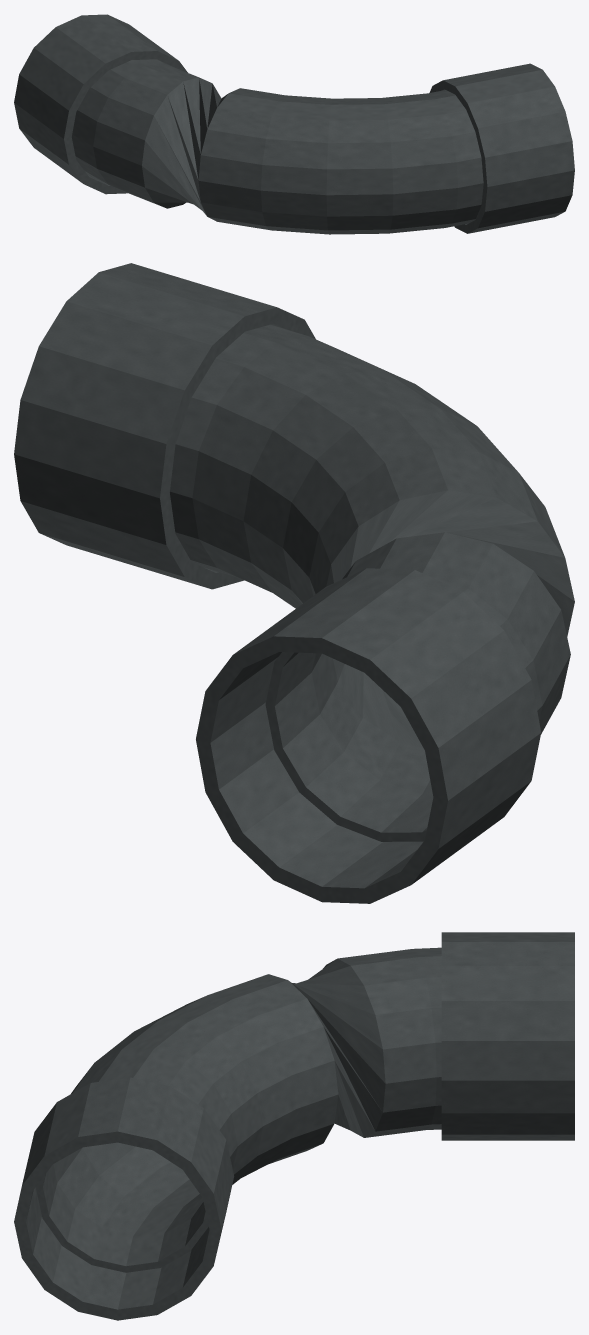
The model's file is Pipe_Elbow_90.glb.
The picture shows the model from 3 angles, top to bottom: view 1: azimuth 30°, elevation 25°; view 2: azimuth 150°, elevation 25°; view 3: azimuth 270°, elevation 25°; orthographic projection. The views are drawn at different scales.
Parts seen in each view (by area): view 1: Swept_Elbow_75mm, Outlet_Slip_Collar, Inlet_Slip_Collar; view 2: Swept_Elbow_75mm, Inlet_Slip_Collar, Outlet_Slip_Collar; view 3: Swept_Elbow_75mm, Inlet_Slip_Collar, Outlet_Slip_Collar.
Part boxes in pixels (x1,y1,x2,y2): Swept_Elbow_75mm: (71, 59, 483, 234); Outlet_Slip_Collar: (429, 63, 574, 233); Inlet_Slip_Collar: (14, 14, 187, 194); Swept_Elbow_75mm: (170, 324, 574, 841); Inlet_Slip_Collar: (196, 568, 541, 903); Outlet_Slip_Collar: (14, 263, 315, 589); Swept_Elbow_75mm: (35, 947, 441, 1272); Inlet_Slip_Collar: (441, 932, 574, 1140); Outlet_Slip_Collar: (14, 1077, 234, 1320).
Bounding box in the file's own units: 0.232 × 0.086 × 0.2312.
1 material, 1 textured.
